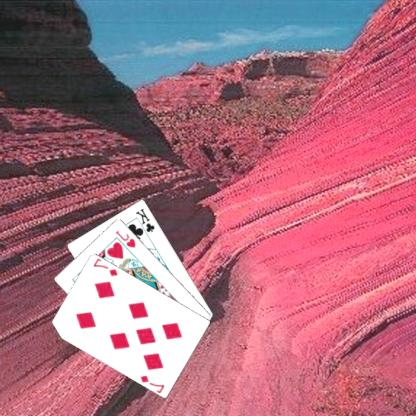7D: (92, 256, 121, 277), (140, 372, 168, 393)
JH: (114, 228, 139, 248)
KC: (134, 206, 158, 238)
